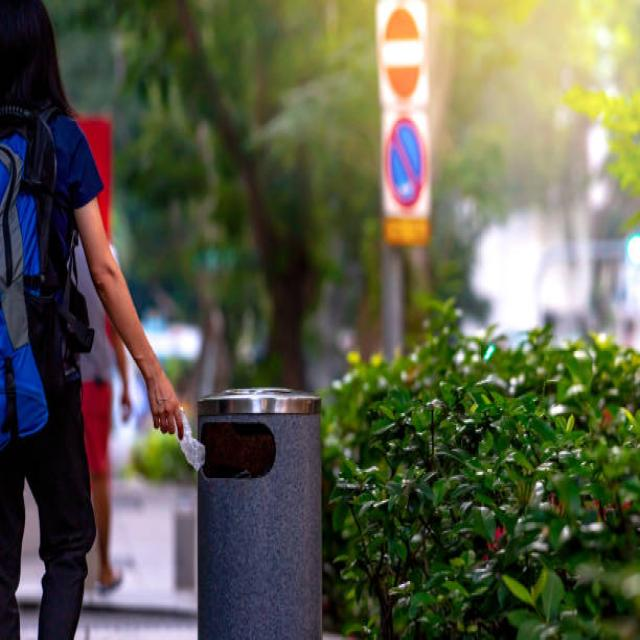bin_empty: (194, 382, 324, 638)
